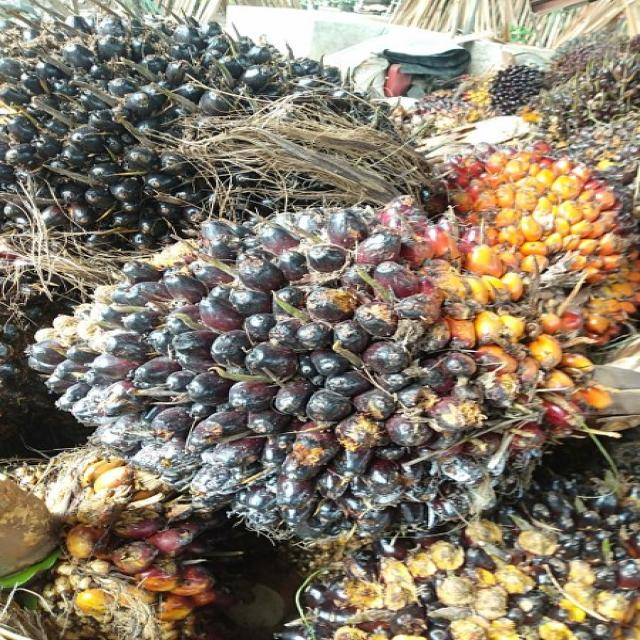fraksi 00: (25, 206, 588, 557), (0, 8, 446, 261)
